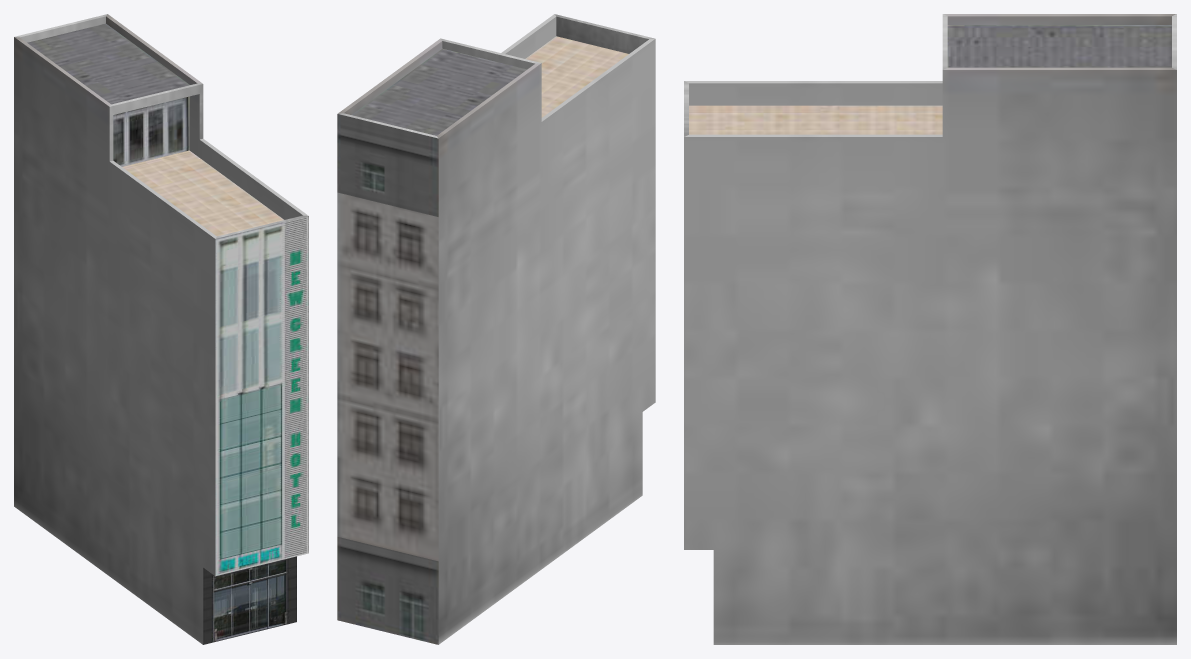
The picture shows the model from 3 angles, left to right: view 1: azimuth 30°, elevation 25°; view 2: azimuth 150°, elevation 25°; view 3: azimuth 270°, elevation 25°; orthographic projection. The views are drawn at different scales.
Visible parts, largest first — view 1: 5da93e7b041b270fd435bc8d.001; view 2: 5da93e7b041b270fd435bc8d.001; view 3: 5da93e7b041b270fd435bc8d.001.
Part boxes in pixels (box(x1,y1,x2,y2)): 5da93e7b041b270fd435bc8d.001: box(14, 14, 308, 644); 5da93e7b041b270fd435bc8d.001: box(337, 14, 655, 644); 5da93e7b041b270fd435bc8d.001: box(684, 14, 1176, 644).
Size of the model in its own units: 5.38 by 25.75 by 20.
1 material, 1 textured.
